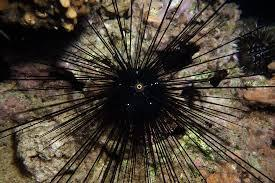urchin: (7, 4, 268, 183)
